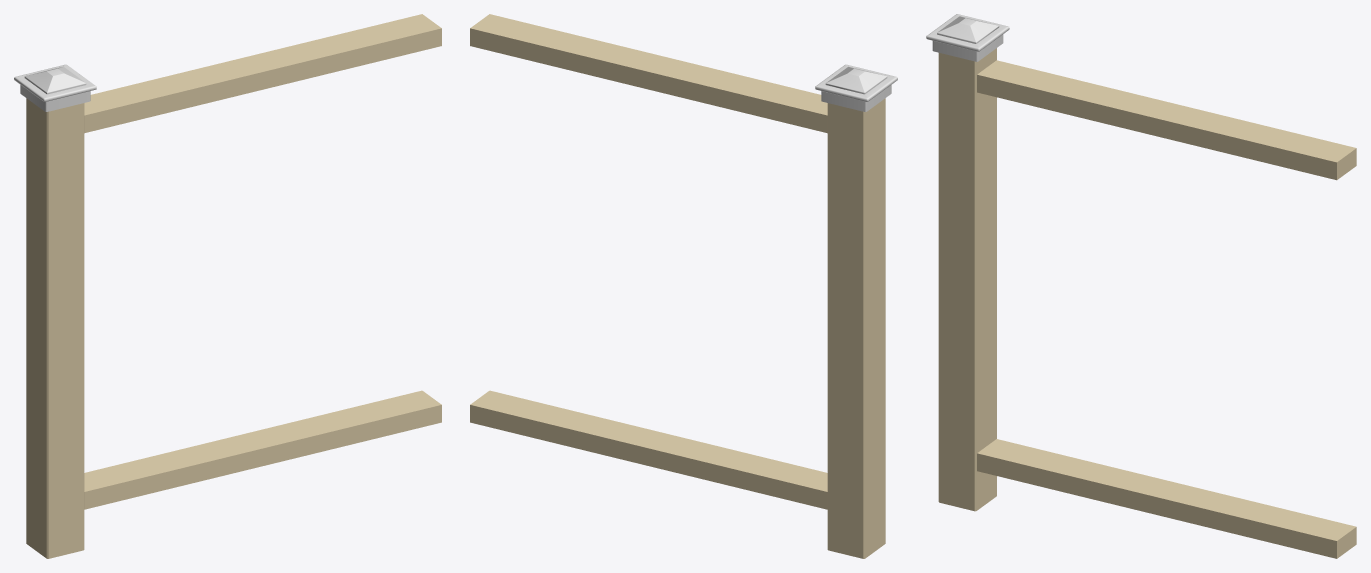
File: mod_railing_plastic.glb
3 renders of one model, left to right at view 1: azimuth 30°, elevation 25°; view 2: azimuth 150°, elevation 25°; view 3: azimuth 330°, elevation 25°, orthographic.
Parts seen in each view (by area): view 1: rails, post, Cap; view 2: rails, post, Cap; view 3: rails, post, Cap.
Part boxes in pixels (left/top/right/bottom): rails: left=84, top=14, right=441, bottom=509; post: left=26, top=98, right=84, bottom=558; Cap: left=14, top=64, right=96, bottom=111; rails: left=470, top=14, right=827, bottom=509; post: left=827, top=98, right=885, bottom=558; Cap: left=815, top=64, right=897, bottom=111; rails: left=977, top=60, right=1356, bottom=558; post: left=938, top=48, right=996, bottom=511; Cap: left=926, top=14, right=1009, bottom=61.
Size of the model in its own units: 1.07 by 1.2 by 0.1412.
